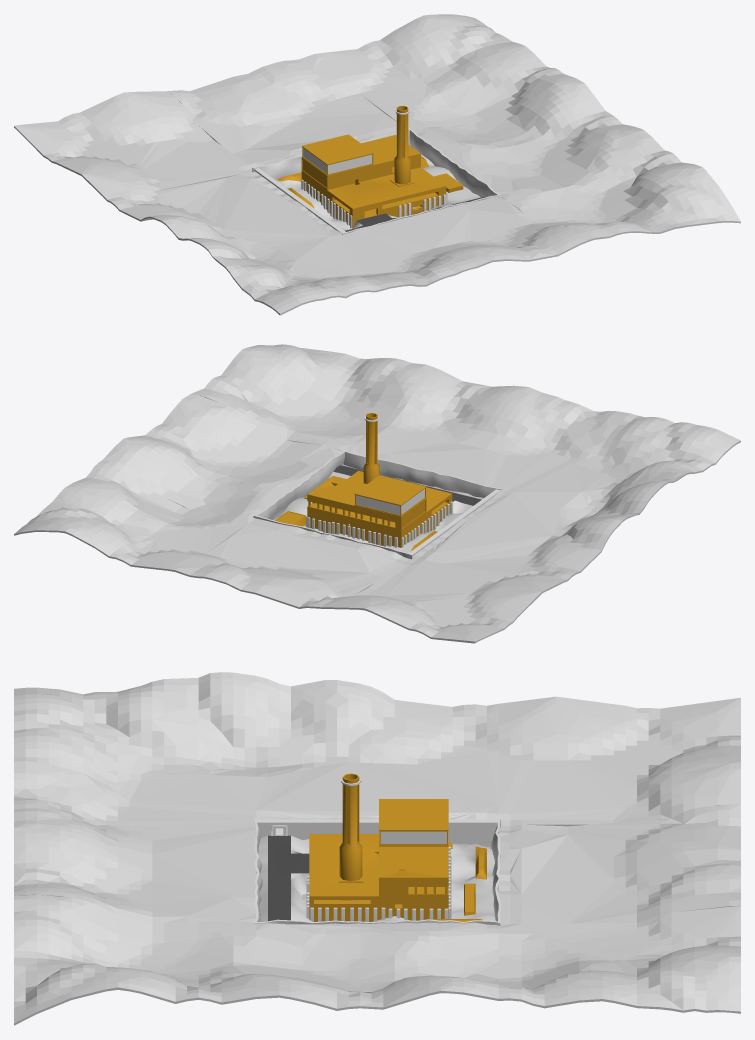
The model's file is CityLiveSector3.fbx.
3 views of the same model, one above another, from view 1: azimuth 30°, elevation 25°; view 2: azimuth 150°, elevation 25°; view 3: azimuth 270°, elevation 25° (orthographic). The views are drawn at different scales.
Parts seen in each view (by area): view 1: Map; view 2: Map; view 3: Map.
Boxes of the visible parts, x1=… form: Map: x1=14, y1=14, x2=740, y2=315; Map: x1=14, y1=344, x2=740, y2=643; Map: x1=14, y1=672, x2=740, y2=1025.
Size of the model in its own units: 60000 by 13138 by 60000.
